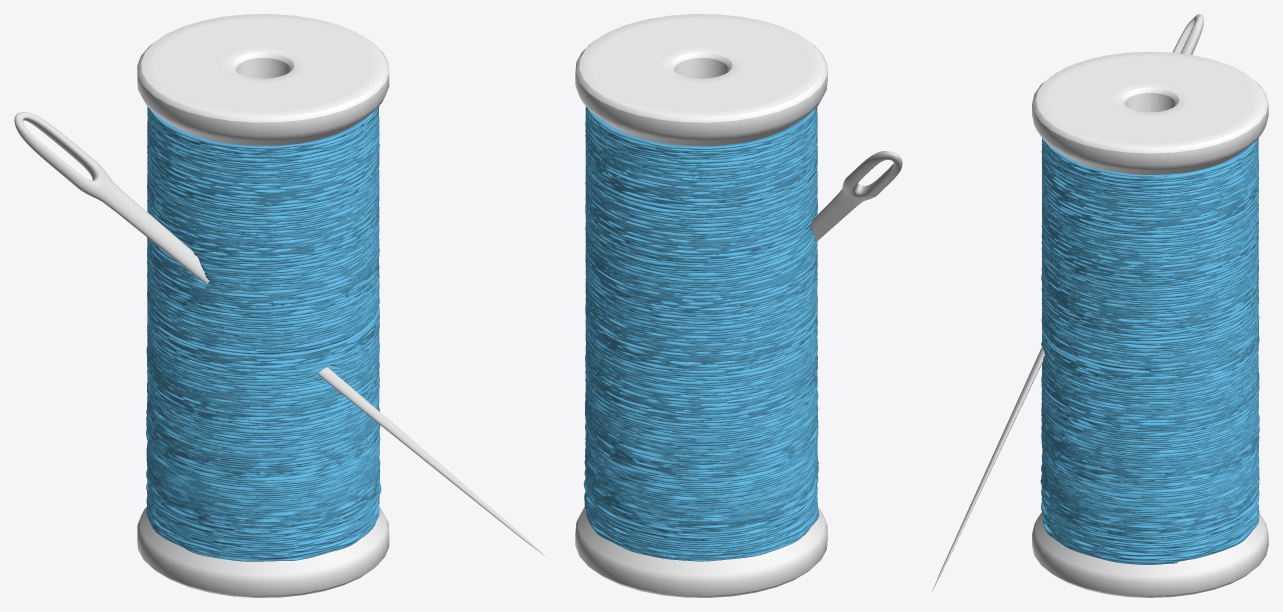
Rendered from threadSpool2.glb.
The picture shows the model from 3 angles, left to right: view 1: azimuth 30°, elevation 25°; view 2: azimuth 150°, elevation 25°; view 3: azimuth 270°, elevation 25°; orthographic projection. The views are drawn at different scales.
Visible parts, largest first — view 1: Spiral, Cylinder, neetle; view 2: Spiral, Cylinder, neetle; view 3: Spiral, Cylinder, neetle.
Boxes of the visible parts, box(x1,y1,x2,y2) form: Spiral: box(146, 106, 381, 561); Cylinder: box(137, 14, 389, 597); neetle: box(14, 112, 545, 556); Spiral: box(583, 106, 819, 561); Cylinder: box(575, 14, 827, 597); neetle: box(811, 151, 902, 241); Spiral: box(1040, 138, 1259, 564); Cylinder: box(1032, 51, 1268, 597); neetle: box(932, 14, 1203, 591).
Bounding box in the file's own units: 1.07 × 1.26 × 0.8554.
